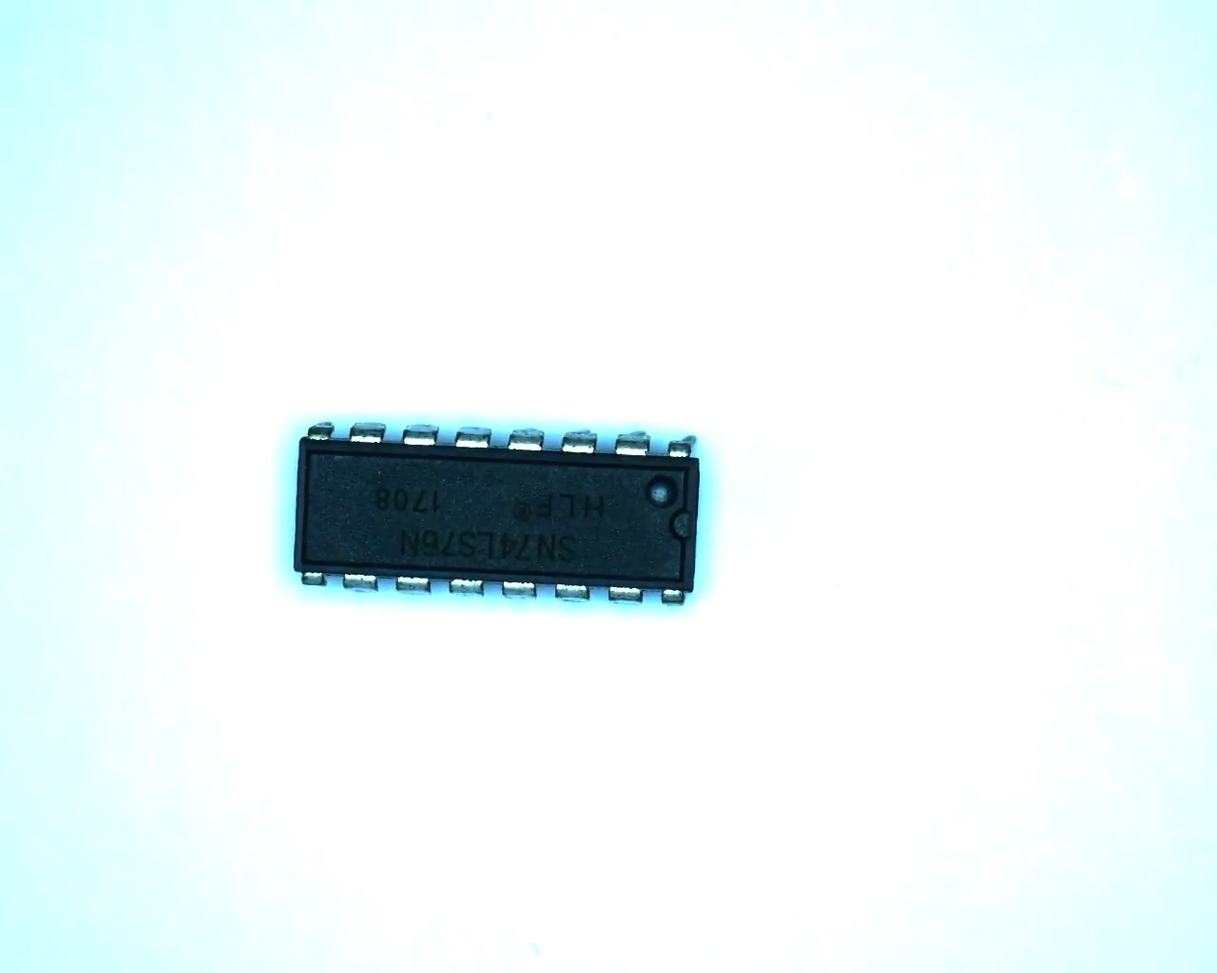IC: (287, 420, 711, 611)
notch: (670, 506, 700, 550)
